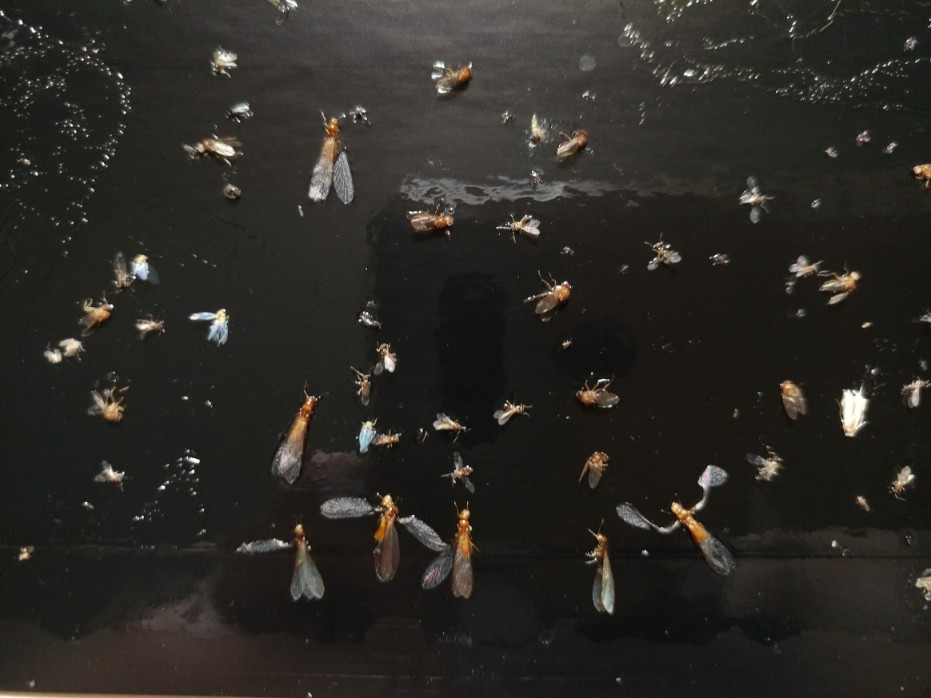flying termite: (612, 463, 754, 581), (320, 490, 449, 599), (301, 107, 366, 215), (418, 499, 482, 602), (269, 378, 332, 482), (572, 520, 625, 617), (279, 515, 335, 602)
